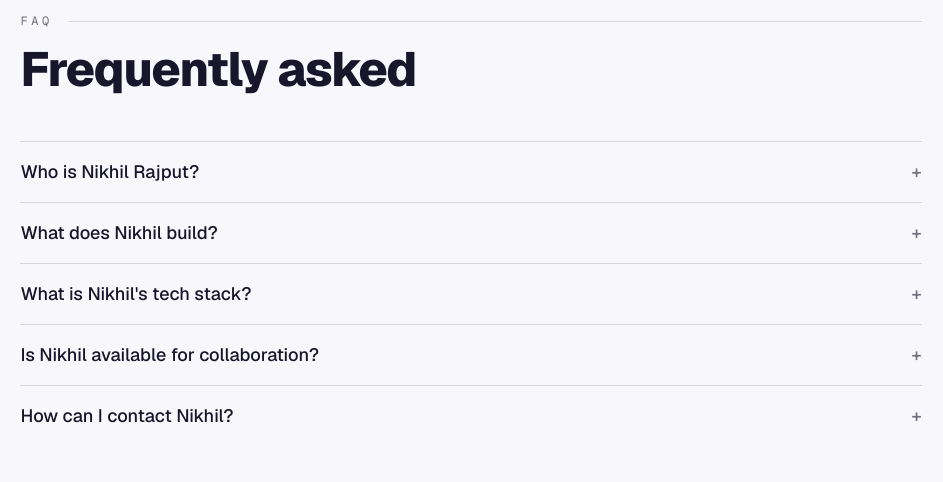
Test: Faq › toggles an answer open when its button is clicked
Click the button "Who is Nikhil Rajput? +" at (110,172), box [20,142,922,202]
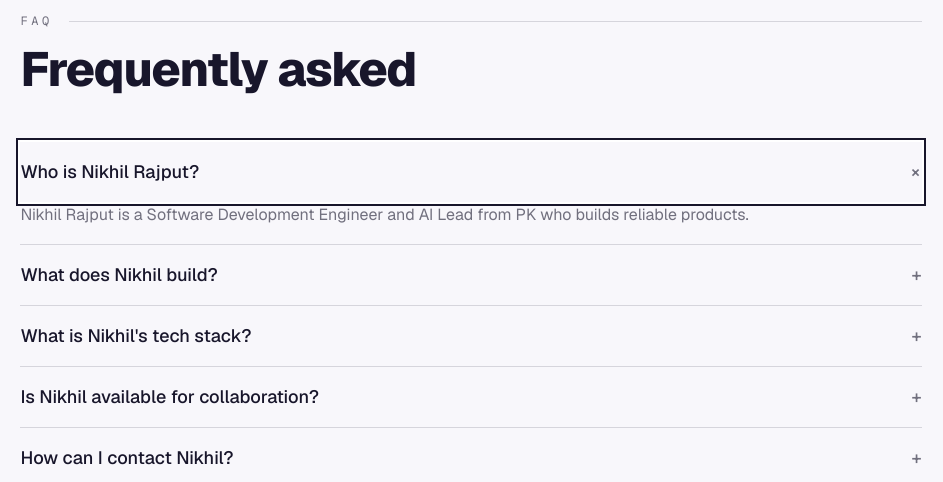
Expected: the button "Who is Nikhil Rajput? +" is expanded, [20,142,922,202]
Expected: the text "Software Development Engineer and AI Lead" is shown, [20,204,749,225]
